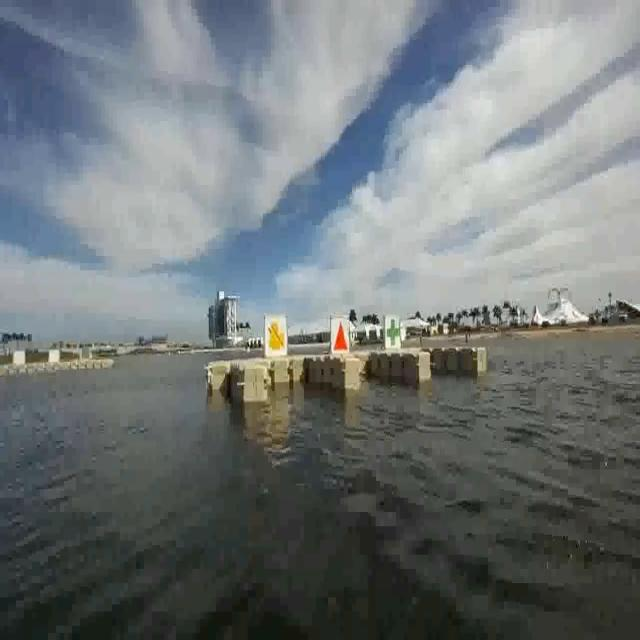blue-cross: (385, 316, 402, 349)
red-dot: (332, 320, 352, 361)
yellow-duck: (268, 322, 286, 355)
